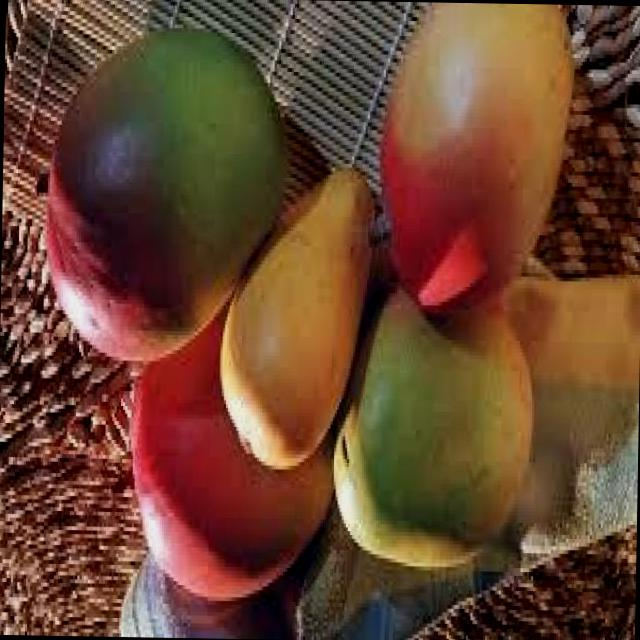Mango: (44, 26, 292, 367), (379, 4, 577, 318), (332, 284, 538, 572), (128, 316, 335, 600), (218, 169, 374, 471)
